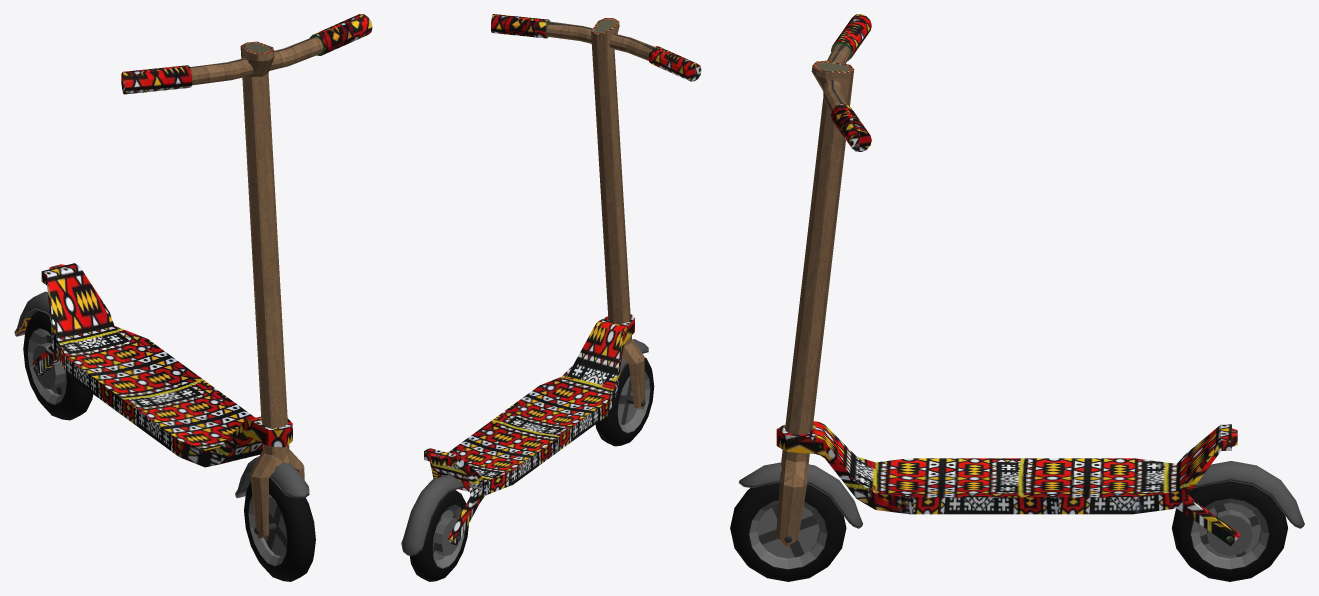
Rendered from scooter.fbx.
The picture shows the model from 3 angles, left to right: view 1: azimuth 30°, elevation 25°; view 2: azimuth 150°, elevation 25°; view 3: azimuth 270°, elevation 25°; orthographic projection. The views are drawn at different scales.
Visible parts, largest first — view 1: Scooter, Handle, FrontWheel, RearWheel; view 2: Scooter, Handle, RearWheel, FrontWheel; view 3: Scooter, Handle, RearWheel, FrontWheel.
Boxes of the visible parts, x1,y1,x2,y2 form: Scooter: [14, 263, 292, 467]; Handle: [121, 14, 372, 538]; FrontWheel: [244, 477, 315, 581]; RearWheel: [23, 311, 93, 420]; Scooter: [401, 314, 634, 555]; Handle: [491, 14, 701, 409]; RearWheel: [410, 490, 468, 581]; FrontWheel: [595, 357, 654, 446]; Scooter: [776, 421, 1304, 546]; Handle: [738, 14, 871, 546]; RearWheel: [1172, 481, 1287, 581]; FrontWheel: [730, 482, 846, 581].
Bounding box in the file's own units: 108 × 216 × 218.
1 material, 1 textured.
